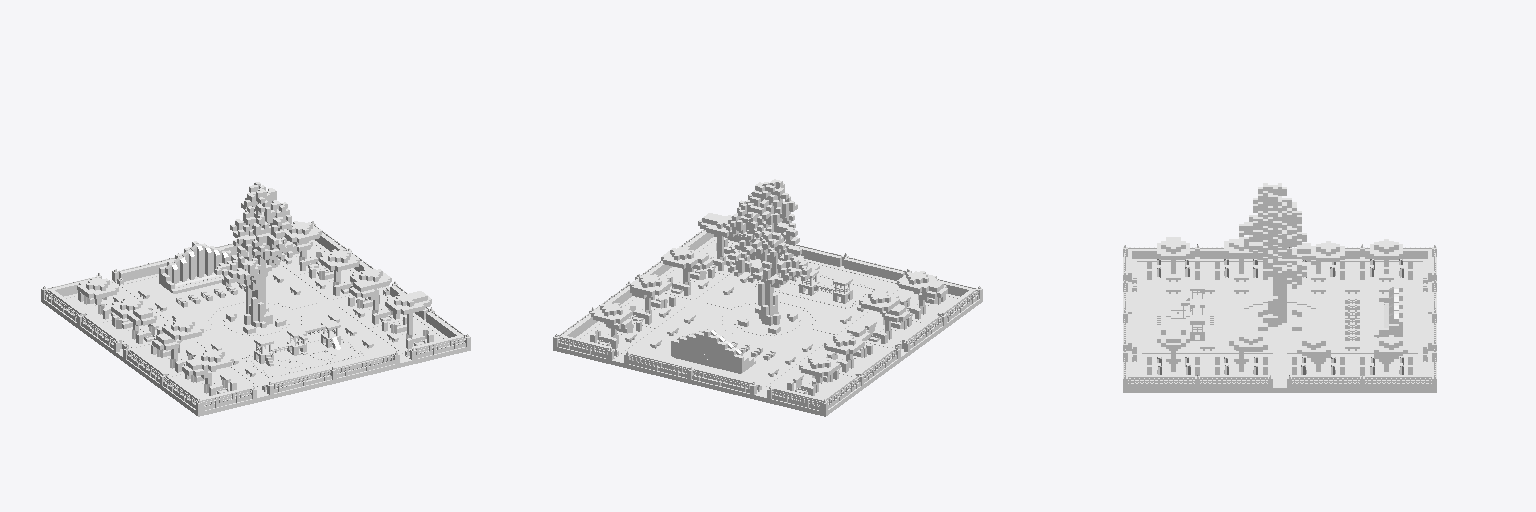
The model's file is Mineways2Skfb.obj.
3 views of the same model, side by side, from view 1: azimuth 30°, elevation 25°; view 2: azimuth 150°, elevation 25°; view 3: azimuth 270°, elevation 25° (orthographic).
Parts seen in each view (by area): view 1: Void__-100_47_-163_to_-36_255_-99; view 2: Void__-100_47_-163_to_-36_255_-99; view 3: Void__-100_47_-163_to_-36_255_-99.
Part boxes in pixels (left/top/right/bottom): Void__-100_47_-163_to_-36_255_-99: left=41, top=182, right=470, bottom=416; Void__-100_47_-163_to_-36_255_-99: left=553, top=179, right=982, bottom=416; Void__-100_47_-163_to_-36_255_-99: left=1123, top=183, right=1436, bottom=392.
Bounding box in the file's own units: 2.03 × 1 × 2.03.